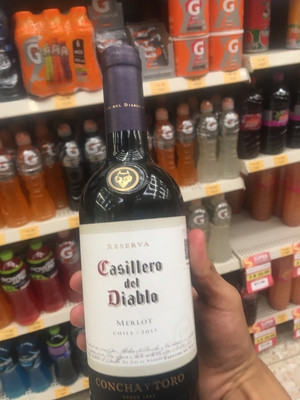casillero del diablo merlot: (68, 56, 206, 400)
